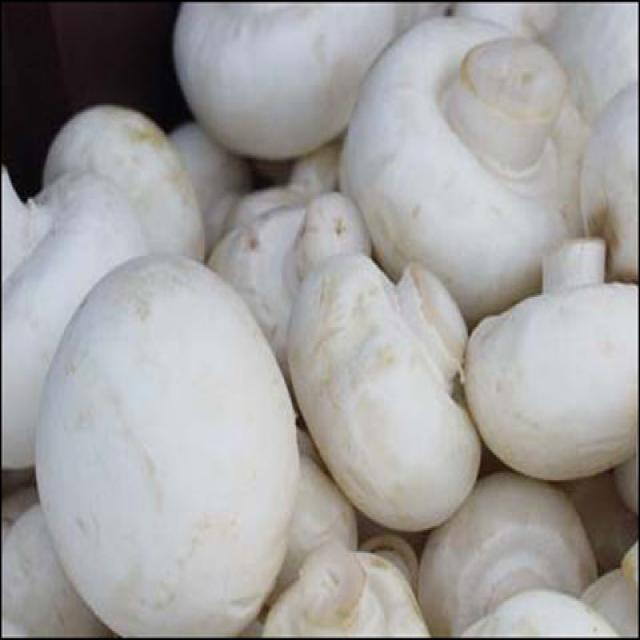Agaricus bisporus: (33, 253, 295, 640), (348, 13, 589, 308), (288, 244, 480, 526), (466, 242, 640, 480)
